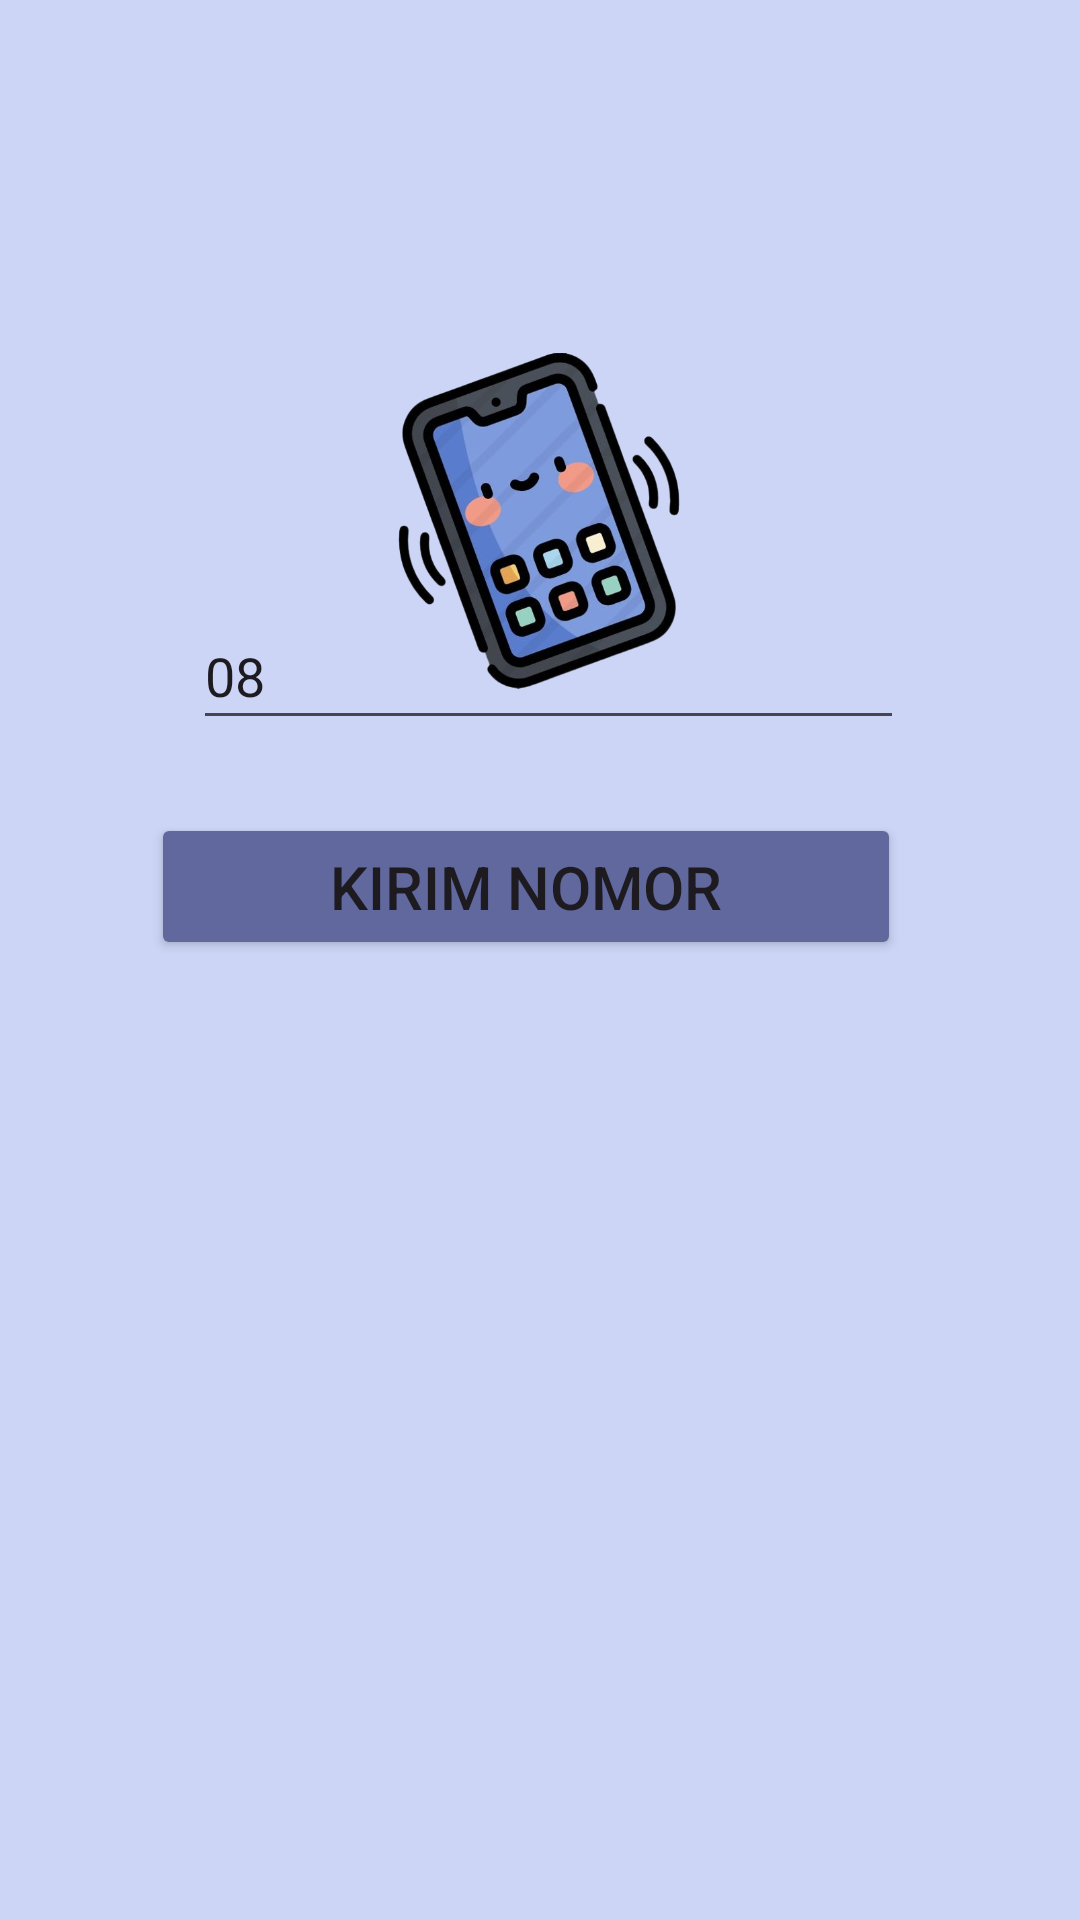

Locate icon controls on the screen. Image size 1080 x 1920, boxes as (x1, y1, x2, y2).
phone: (398, 353, 680, 689)
